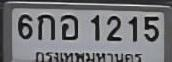1: (90, 14, 99, 40), (128, 16, 136, 40)
2: (106, 14, 120, 40)
5: (143, 15, 158, 41)
6: (17, 12, 32, 37)
A01: (37, 13, 54, 39)
A43: (60, 14, 78, 38)
BKK: (33, 48, 144, 62)
